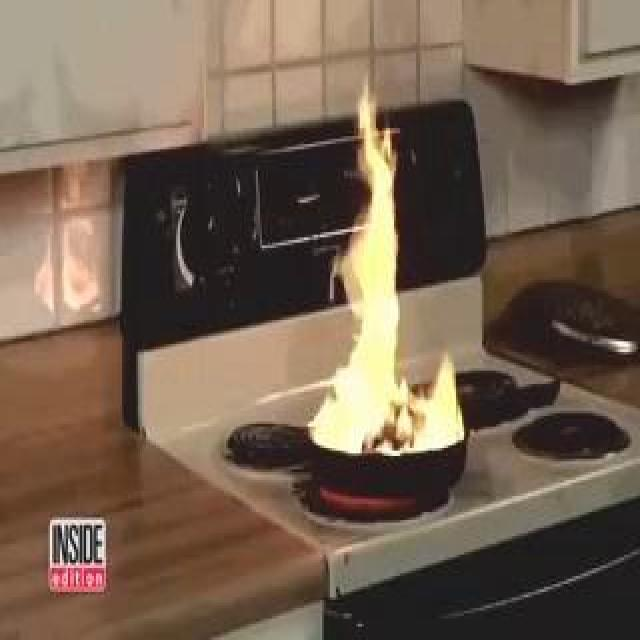Fire: (168, 242, 390, 424)
